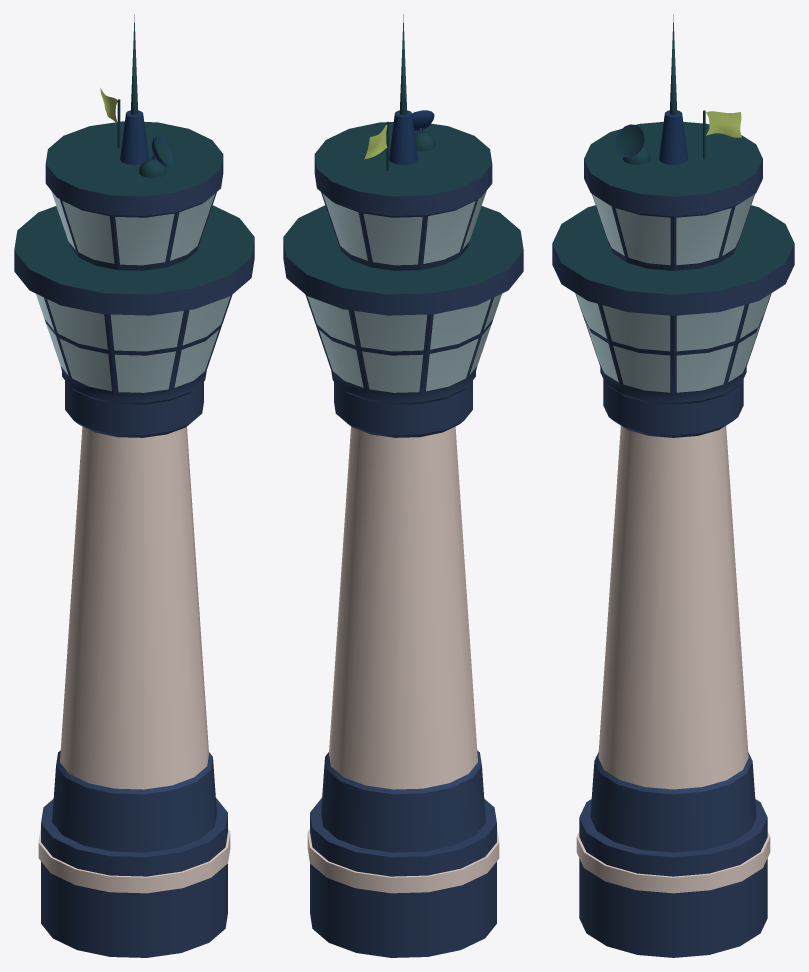
Rendered from airport-control-tower.glb.
The picture shows the model from 3 angles, left to right: view 1: azimuth 30°, elevation 25°; view 2: azimuth 150°, elevation 25°; view 3: azimuth 270°, elevation 25°; orthographic projection.
Visible parts, largest first — view 1: 02.ControlTower_AIRPORT_0; view 2: 02.ControlTower_AIRPORT_0; view 3: 02.ControlTower_AIRPORT_0.
Boxes of the visible parts, x1=… form: 02.ControlTower_AIRPORT_0: x1=14, y1=14, x2=254, y2=957; 02.ControlTower_AIRPORT_0: x1=283, y1=14, x2=523, y2=957; 02.ControlTower_AIRPORT_0: x1=552, y1=14, x2=794, y2=957.
Bounding box in the file's own units: 24.45 × 101 × 24.45.
Materials: 1 (1 with a texture image).
